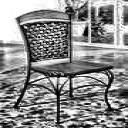chair_success: (7, 5, 121, 124)
